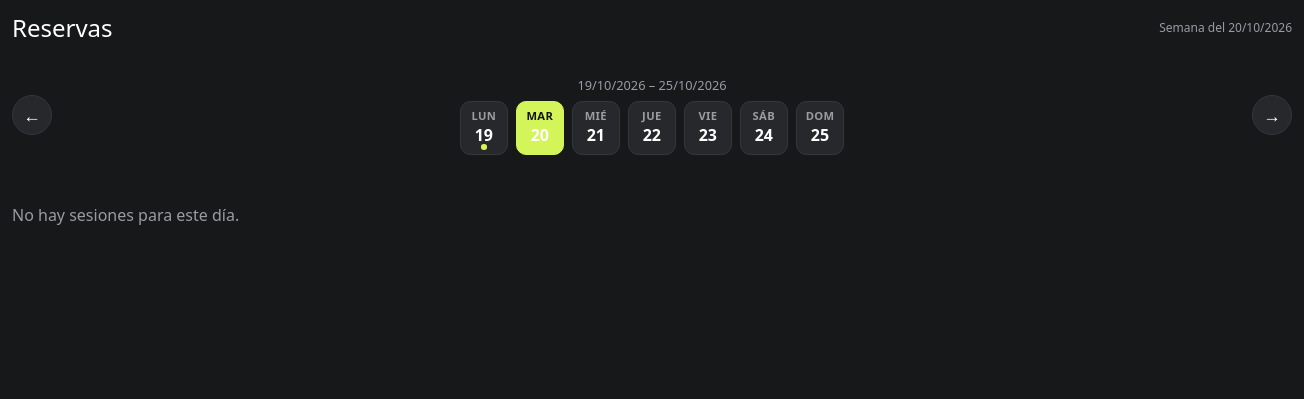
Test case: ClassesPage (reservas del socio) › marca como reservada la sesión que el socio ya tiene ese día
The width and height of the screenshot is (1304, 399).
Click the button "Lun 19": (484, 128) [460,101,508,155]
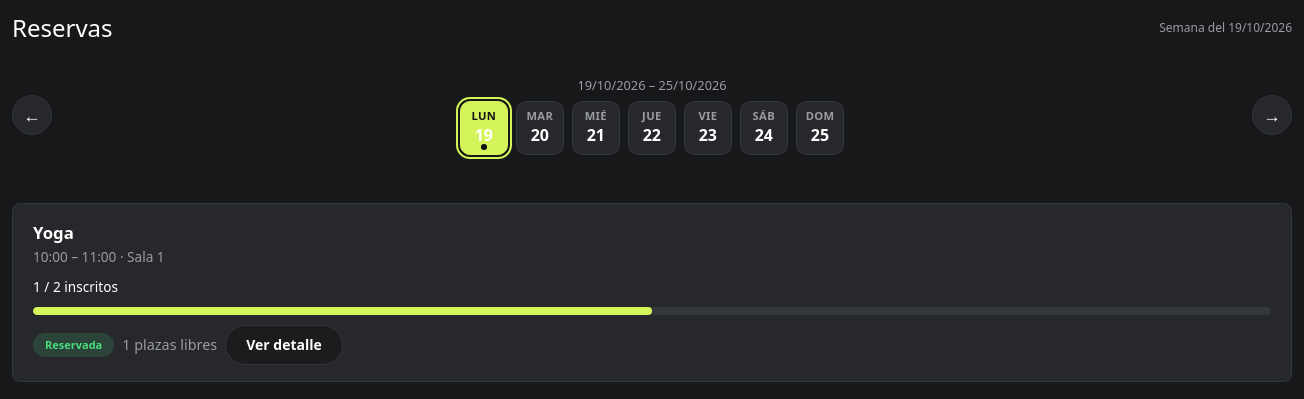
Now the heading "Yoga" is shown, box [33,221,74,244]
Now the text "Reservada" is shown, box [33,333,114,357]
